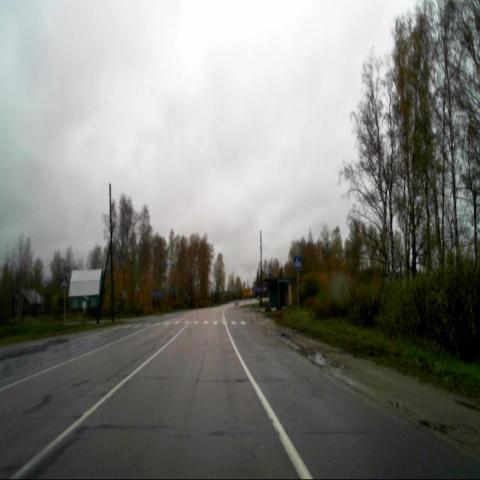5_19_1: (293, 254, 303, 271)
